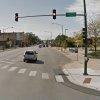Traffic light: (12, 11, 59, 25)
